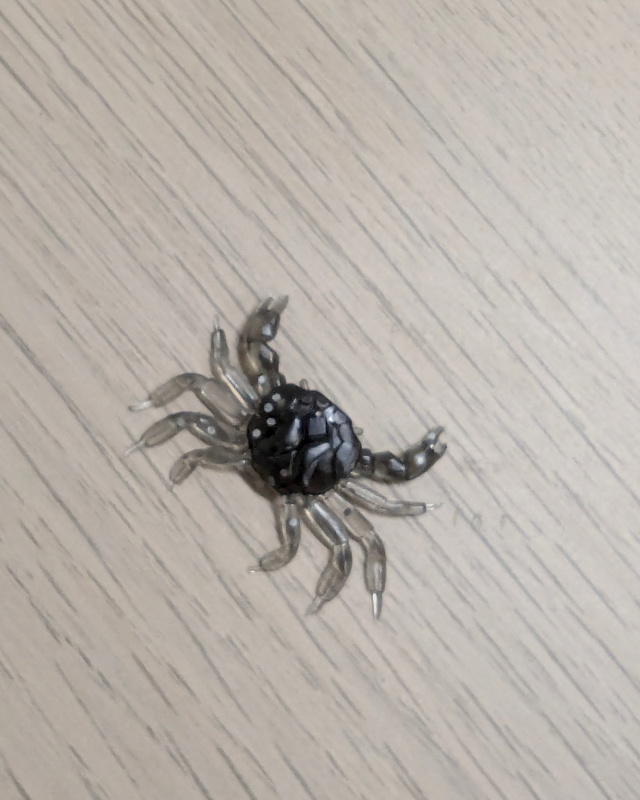crab1: (123, 296, 455, 625)
